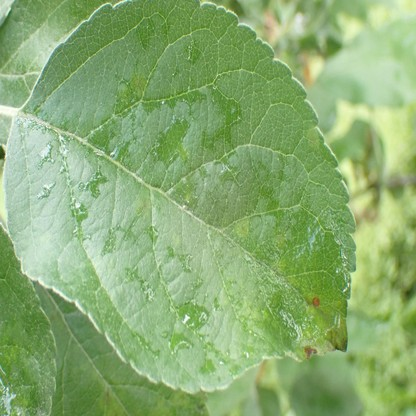frogeye_leaf_spot: (313, 298, 320, 307)
scab: (118, 75, 147, 107), (234, 298, 268, 323), (98, 387, 120, 416), (132, 194, 151, 218), (295, 345, 318, 360), (174, 391, 189, 406), (308, 128, 318, 149), (235, 221, 248, 236), (172, 231, 180, 247)
